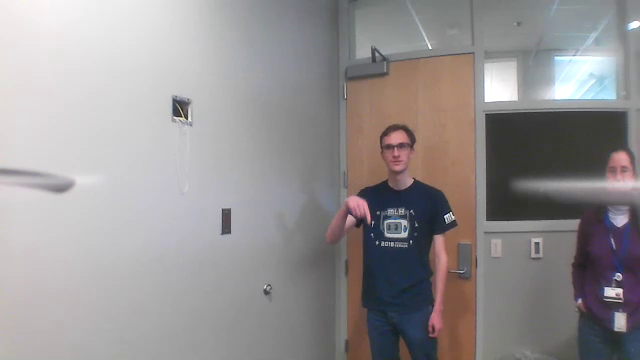down: (342, 189, 373, 231)
